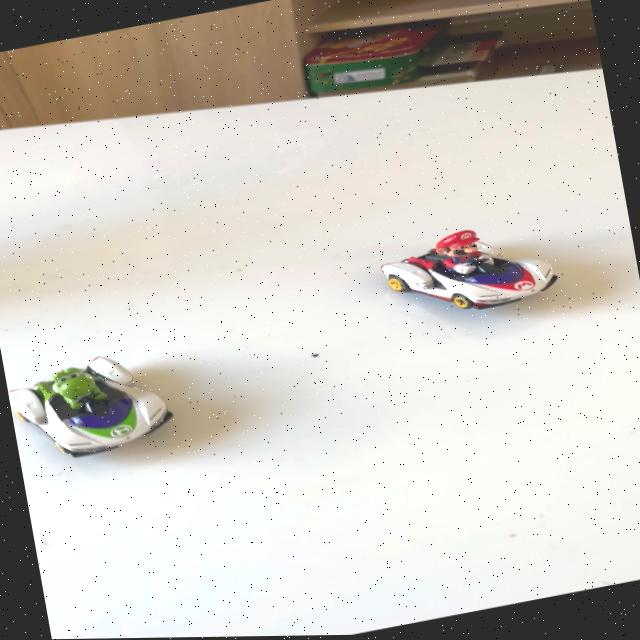mario: (358, 199, 573, 340)
yoshi: (2, 327, 204, 478)
